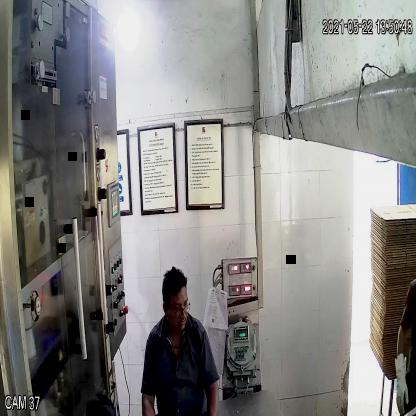goggles: (160, 298, 193, 322)
